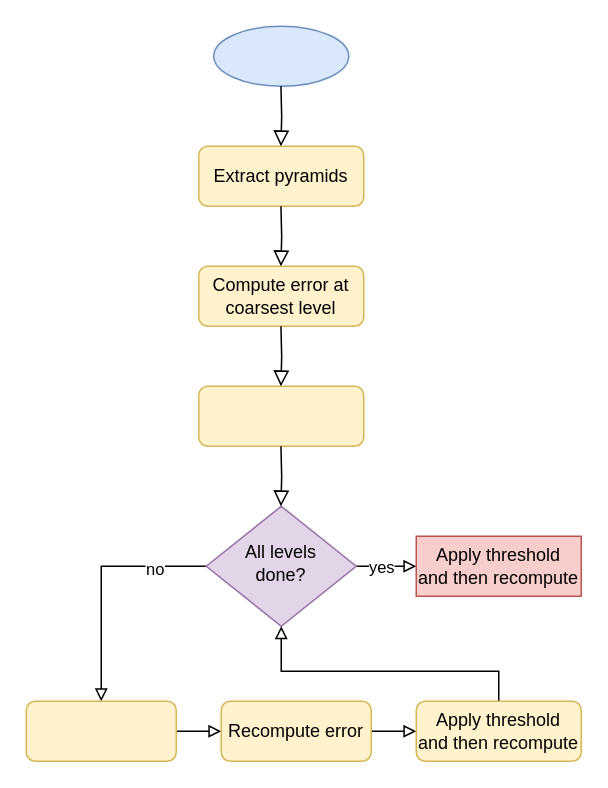
The diagram is 608 pixels wide and 788 high, and some of its shapes have lost their labels. Each missing label, with the box of its shape:
Compute outlier threshold: (197, 385, 364, 446)
Get next level: (25, 700, 176, 761)
Load image: (212, 25, 349, 86)
